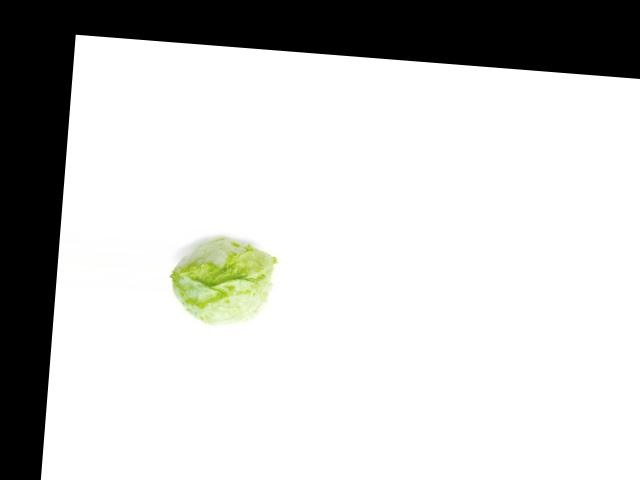lettuce: (167, 228, 277, 335)
